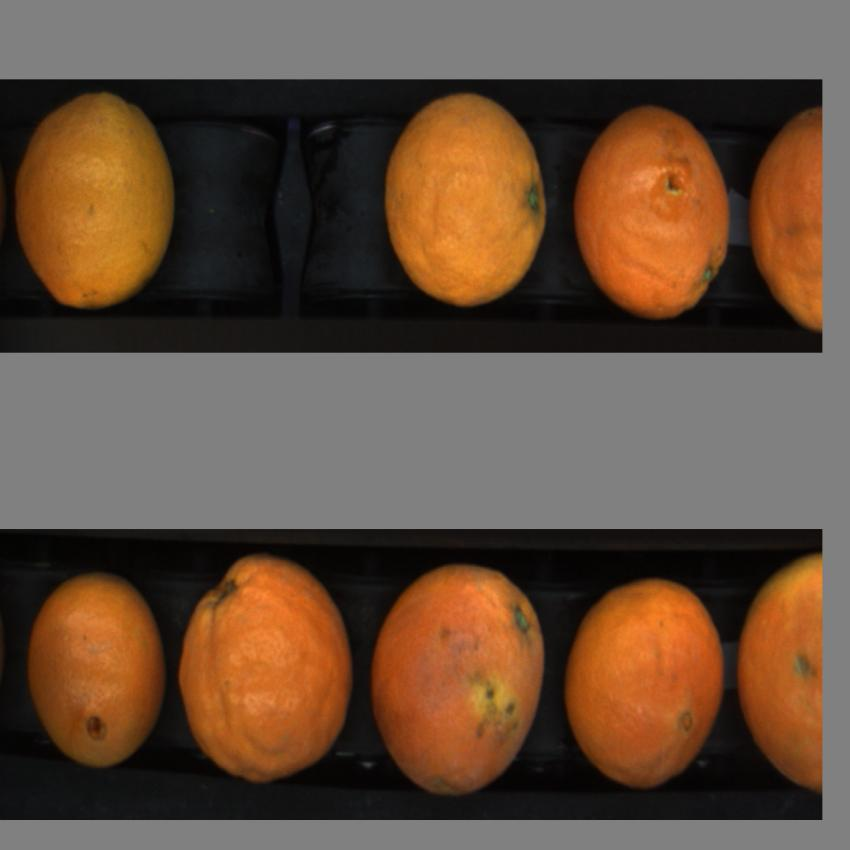Buen estado: (14, 79, 183, 315), (178, 562, 361, 777), (380, 88, 552, 310), (563, 572, 728, 788), (737, 549, 820, 800)
Mal estado: (371, 559, 547, 796), (571, 103, 736, 320), (26, 559, 170, 771), (751, 101, 823, 335)
